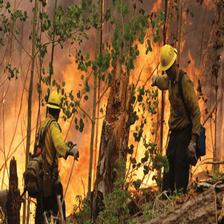fire: (64, 61, 105, 134), (1, 85, 29, 186), (196, 75, 222, 176), (132, 109, 162, 195), (66, 136, 99, 212), (130, 27, 159, 103), (181, 25, 213, 69)
